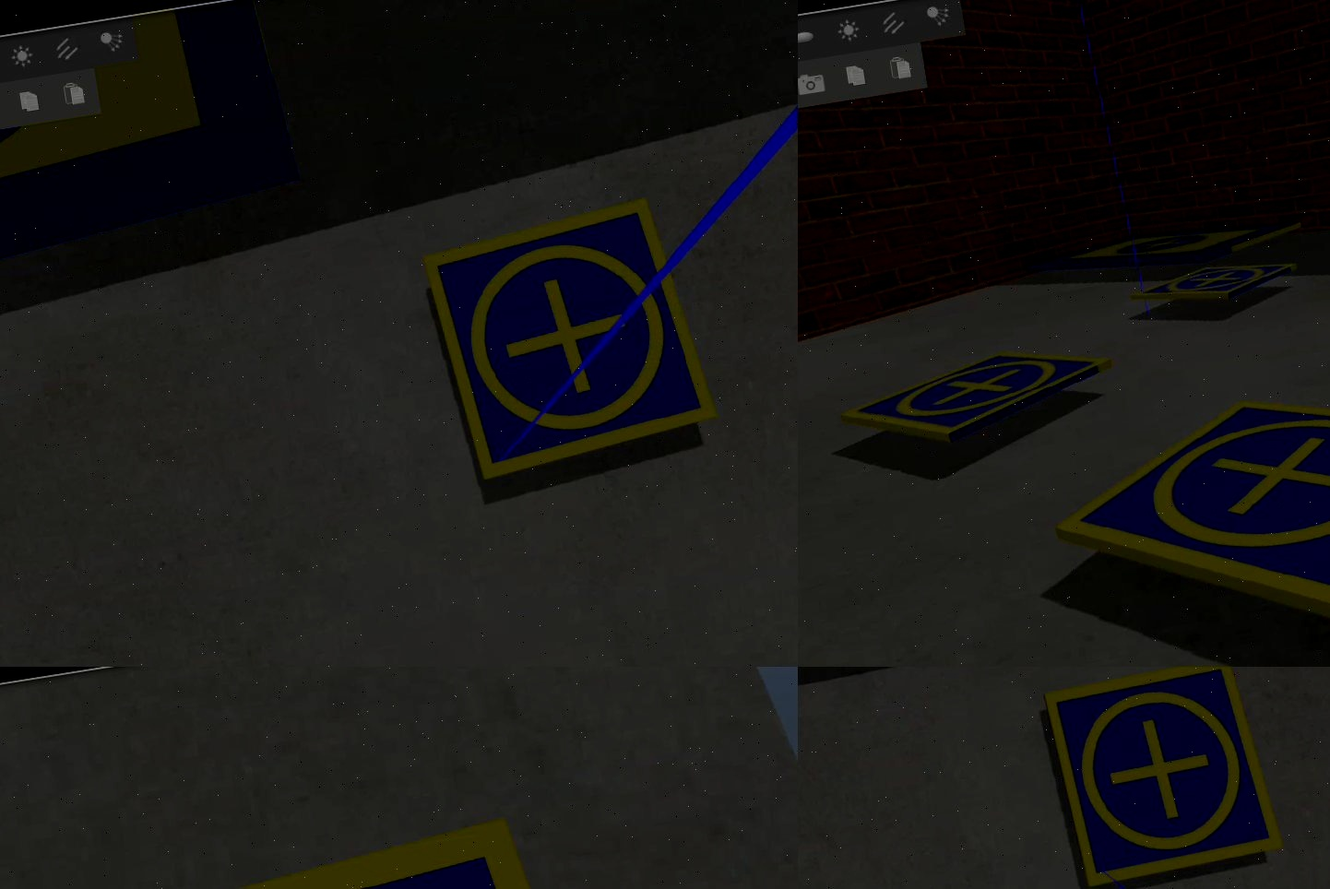large_base: (1, 1, 312, 325), (1020, 205, 1311, 295)
small_base: (421, 193, 725, 483), (1044, 367, 1330, 668), (1, 798, 730, 889), (1041, 668, 1284, 889), (841, 336, 1122, 458), (1126, 247, 1305, 323)
